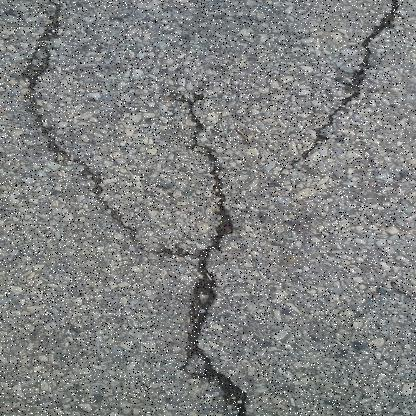Cracks: (0, 0, 195, 263), (166, 90, 266, 416), (283, 0, 416, 166)
